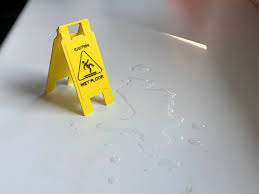wet caution sign: (35, 24, 112, 109)
